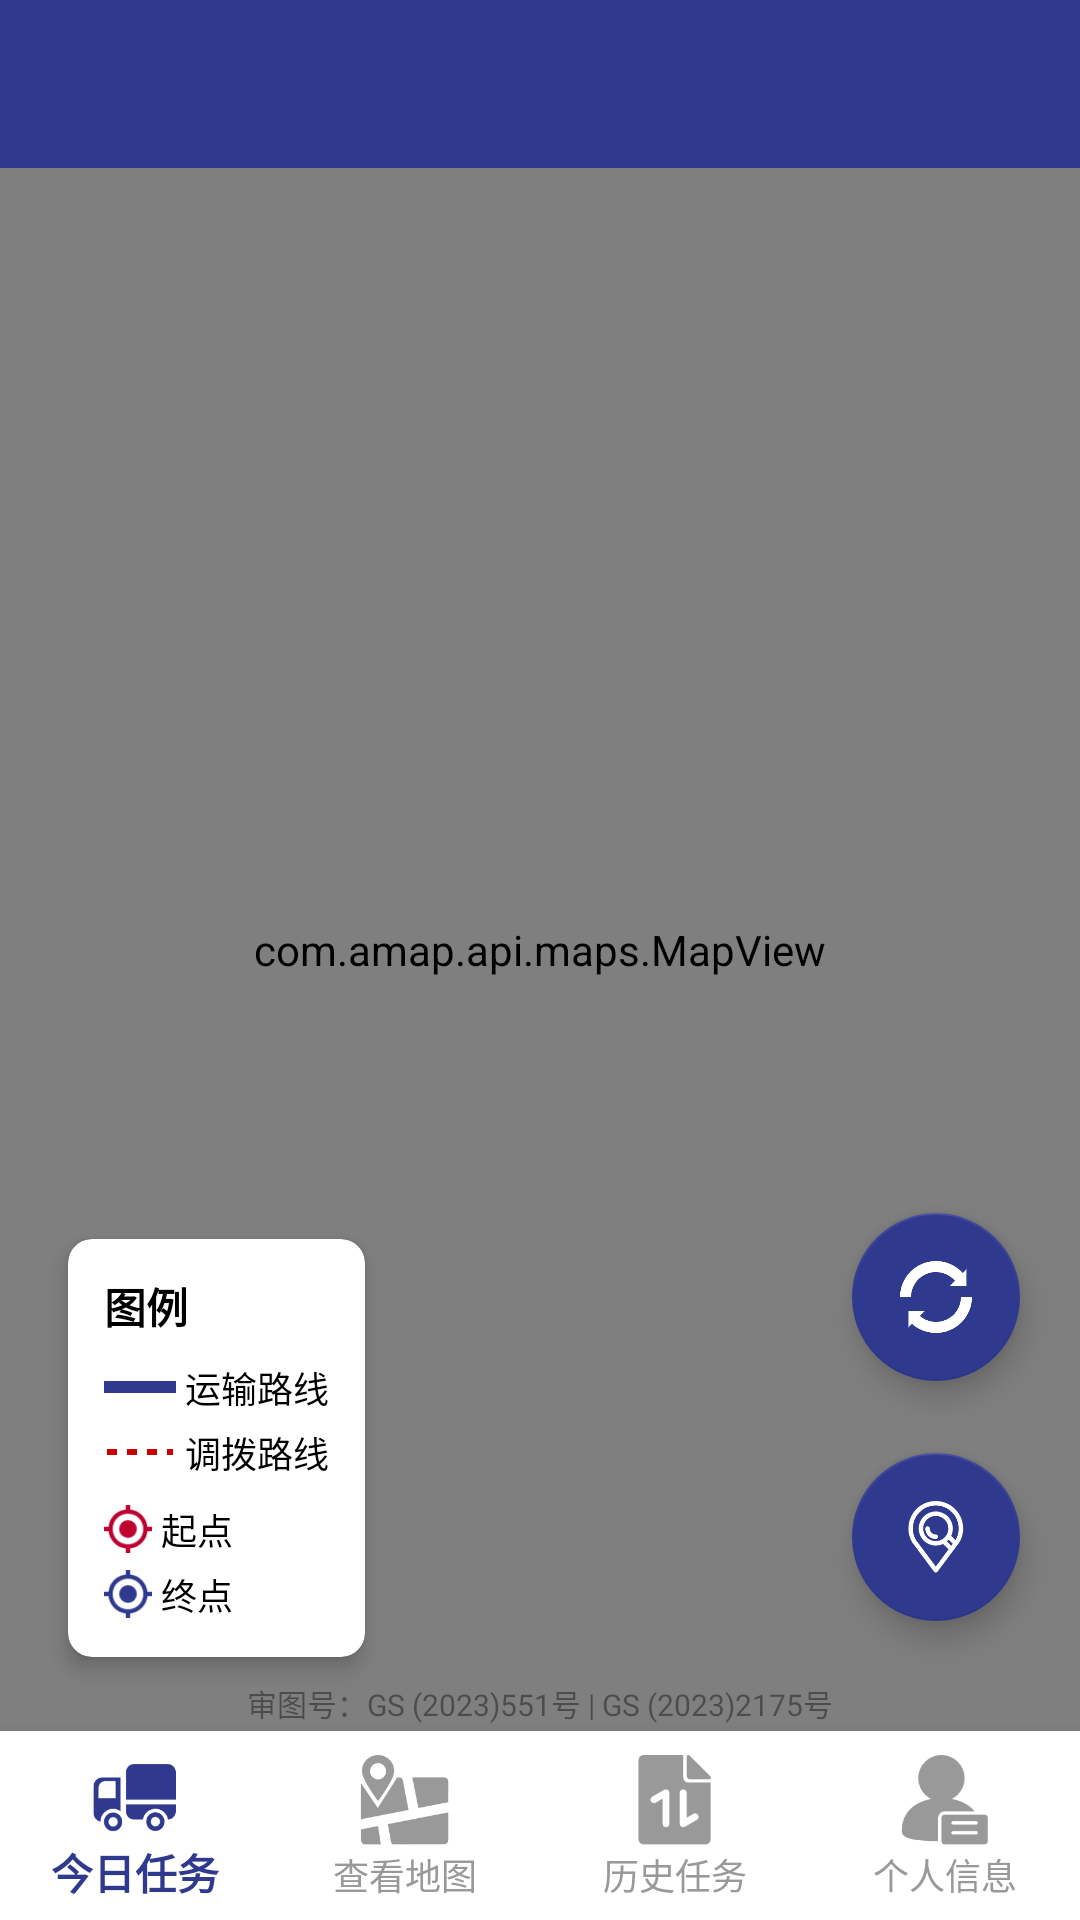

Named icons in this screenshot (1080×1920) and their centers, [x,y]:
locationpink: [128,1529]
刷新: [936,1297]
定位到自己: [936,1537]
